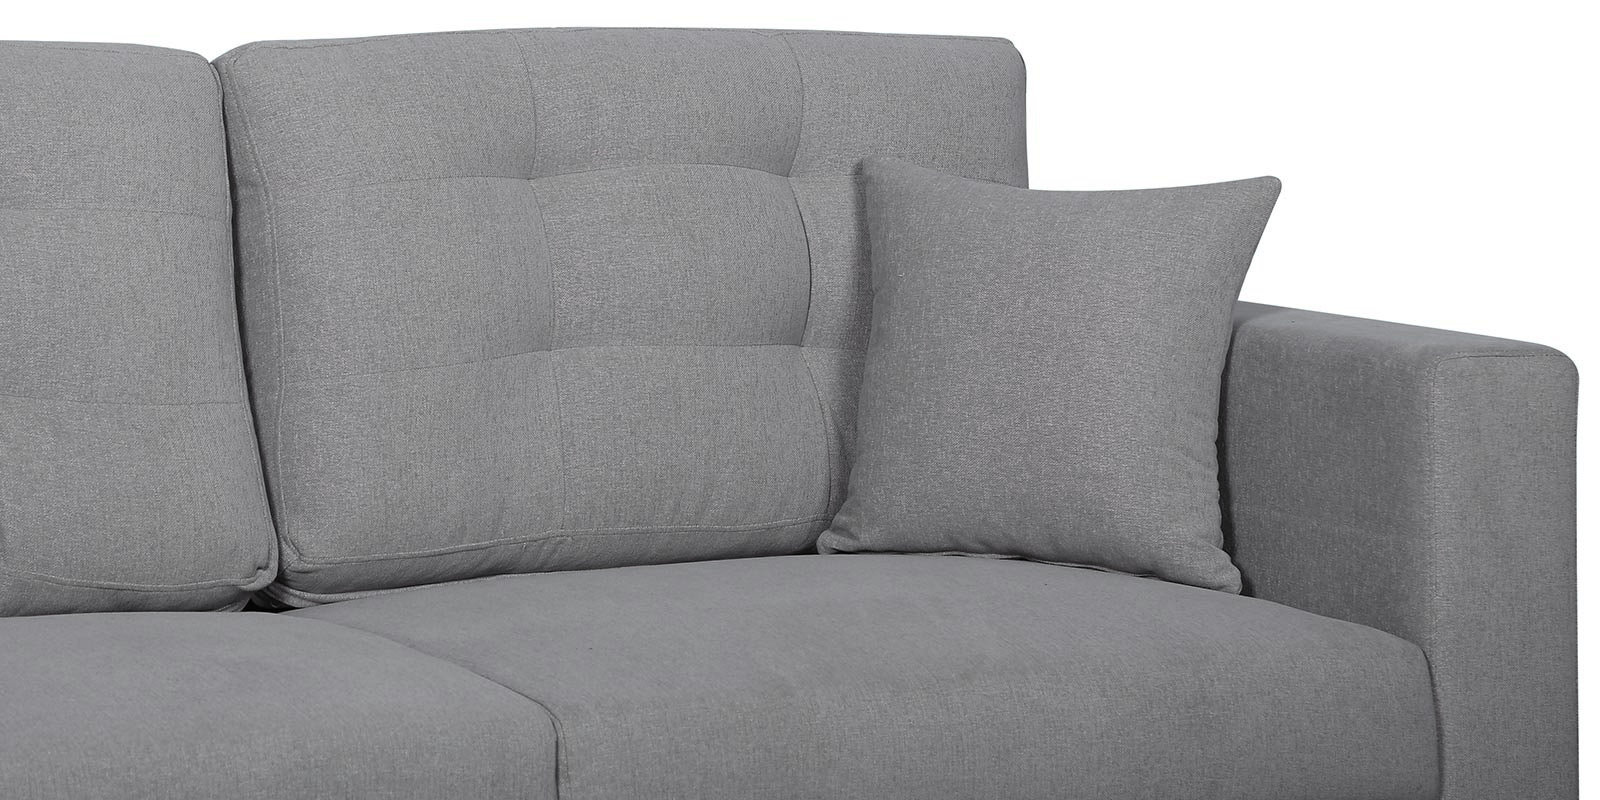Alfredo Three Seater Sofa in Ash Grey Colour by CasaCraft: (9, 24, 1578, 791)
